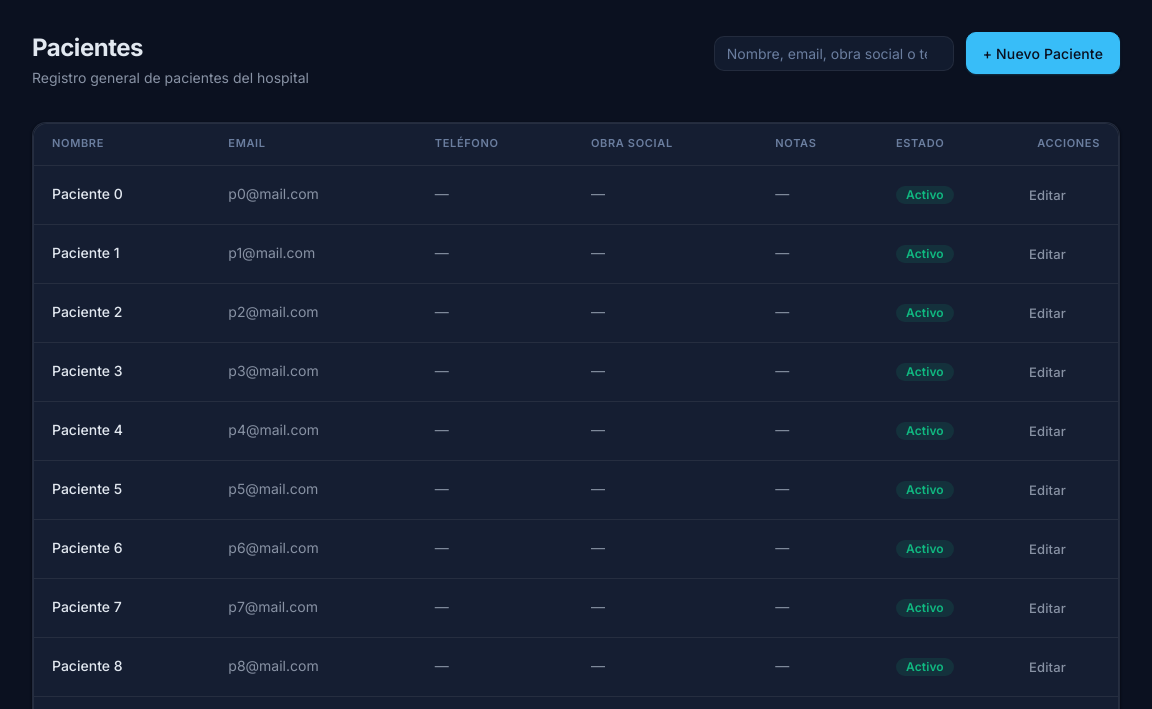
Test: PatientsPage — búsqueda › no consulta por cada tecla: solo con el término ya escrito
The image size is (1152, 709).
Expected: the text "Paciente 0" is shown, x1=52 y1=185 x2=123 y2=202
Type "zap" into the search field at (834, 53), box x1=714 y1=36 x2=954 y2=70
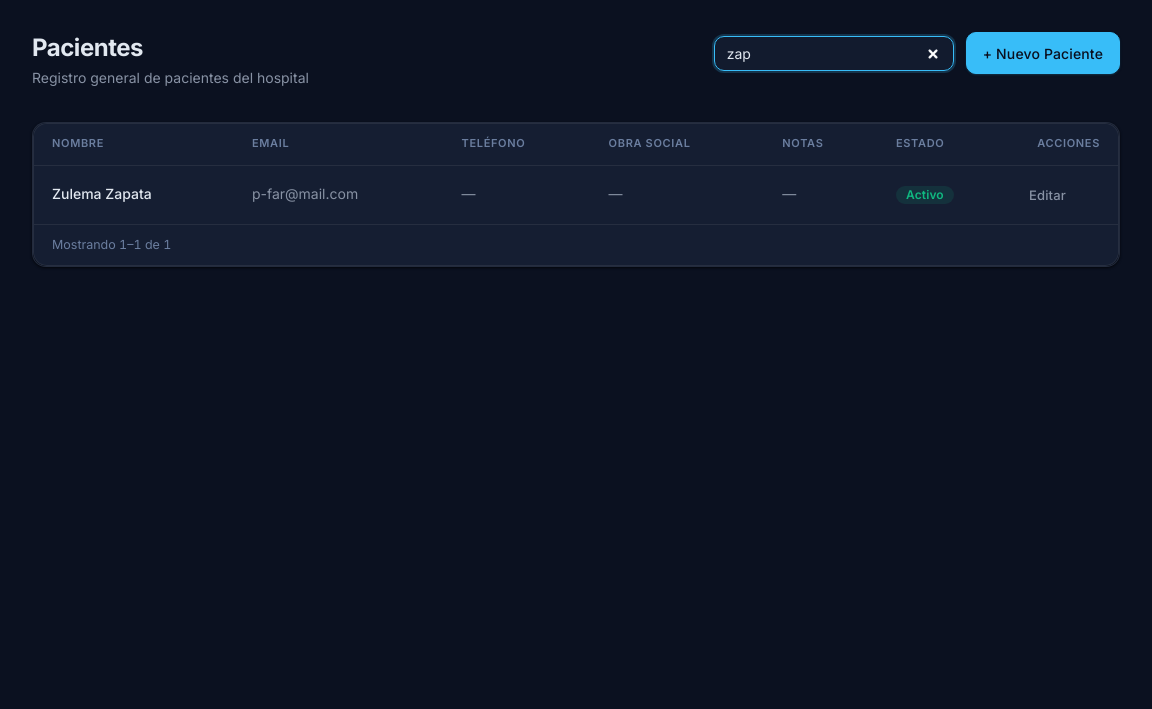
Now the text "Zulema Zapata" is shown, box x1=52 y1=185 x2=152 y2=202
